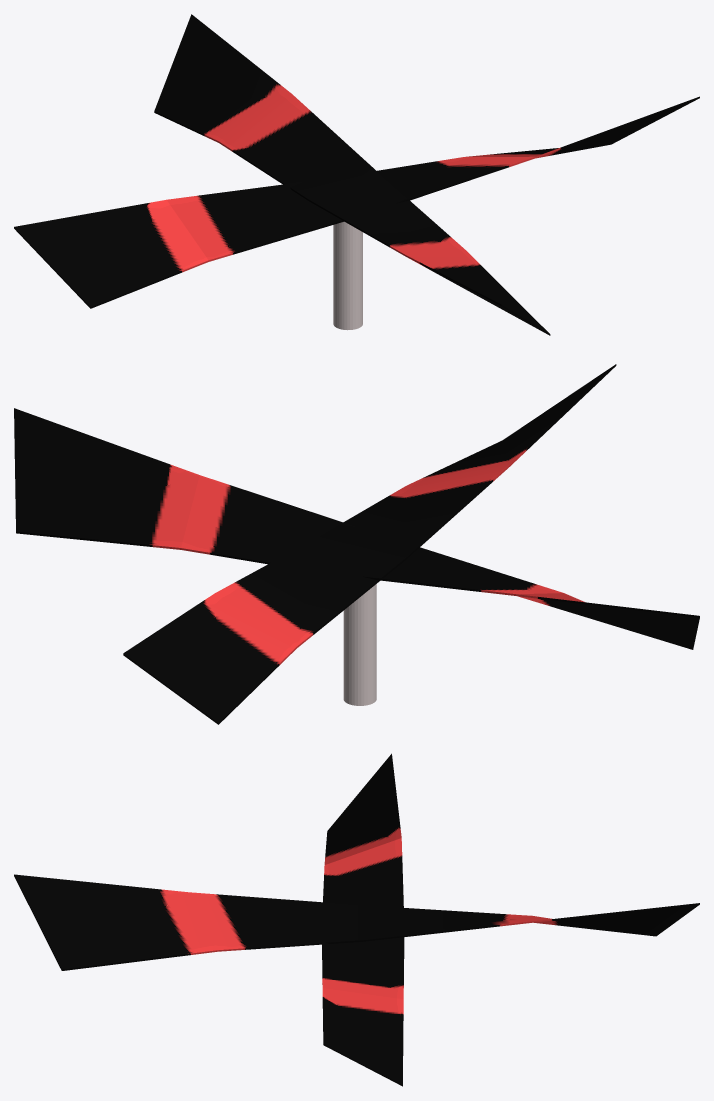
The model's file is Wing.fbx.
The picture shows the model from 3 angles, top to bottom: view 1: azimuth 30°, elevation 25°; view 2: azimuth 150°, elevation 25°; view 3: azimuth 270°, elevation 25°; orthographic projection. The views are drawn at different scales.
Visible parts, largest first — view 1: Plane.005, Plane.006, Cylinder.002; view 2: Plane.006, Plane.005, Cylinder.002; view 3: Plane.005, Plane.006.
Boxes of the visible parts, <box> form: Plane.005: <box>154,14,550,335</box>; Plane.006: <box>14,96,699,308</box>; Cylinder.002: <box>333,221,362,330</box>; Plane.006: <box>14,408,699,649</box>; Plane.005: <box>123,364,616,724</box>; Cylinder.002: <box>343,584,376,705</box>; Plane.005: <box>14,874,699,970</box>; Plane.006: <box>322,753,404,1086</box>.
Bounding box in the file's own units: 4.04 × 1 × 4.04.
